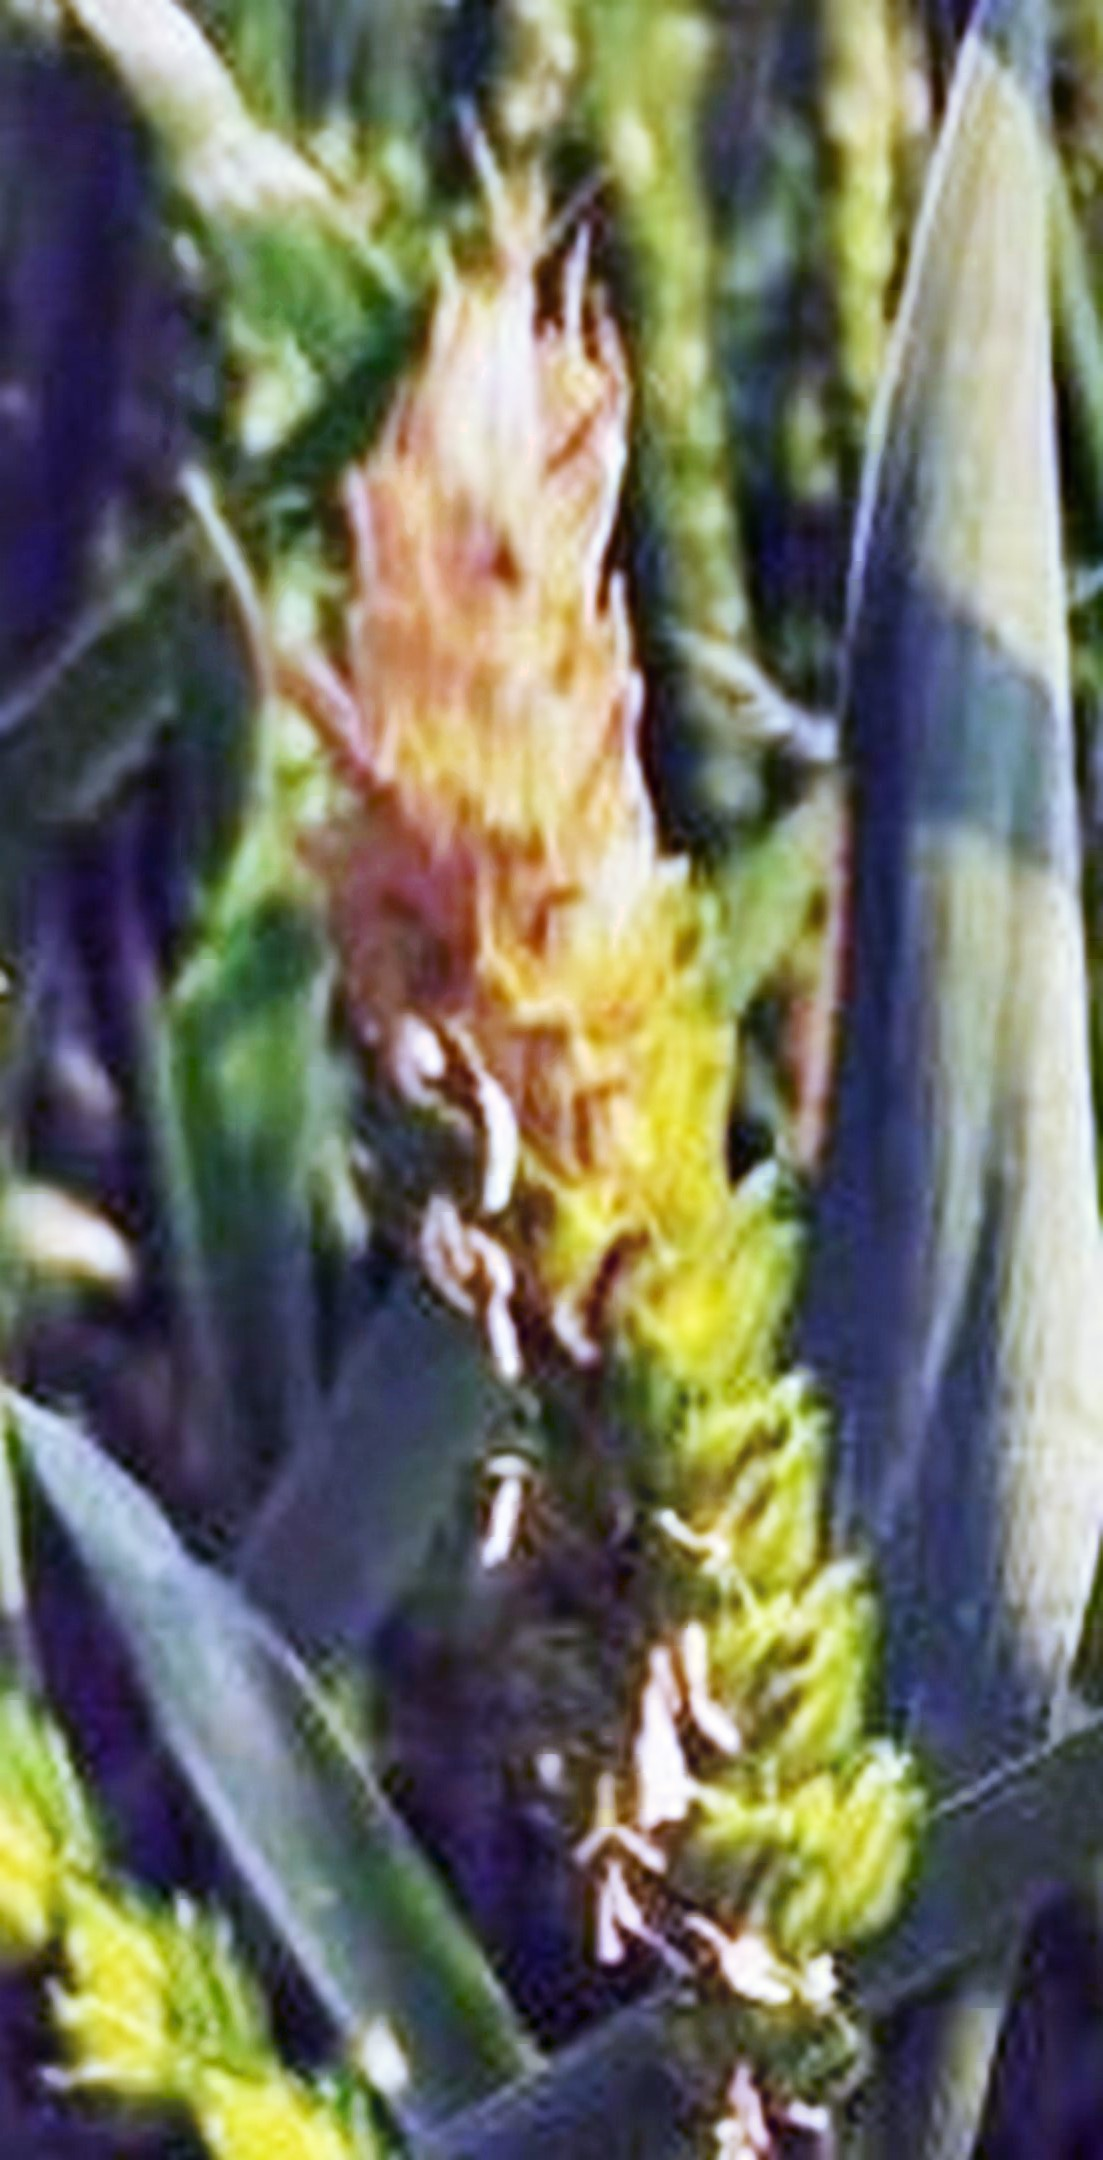Wheat scab: (324, 301, 913, 1927)
